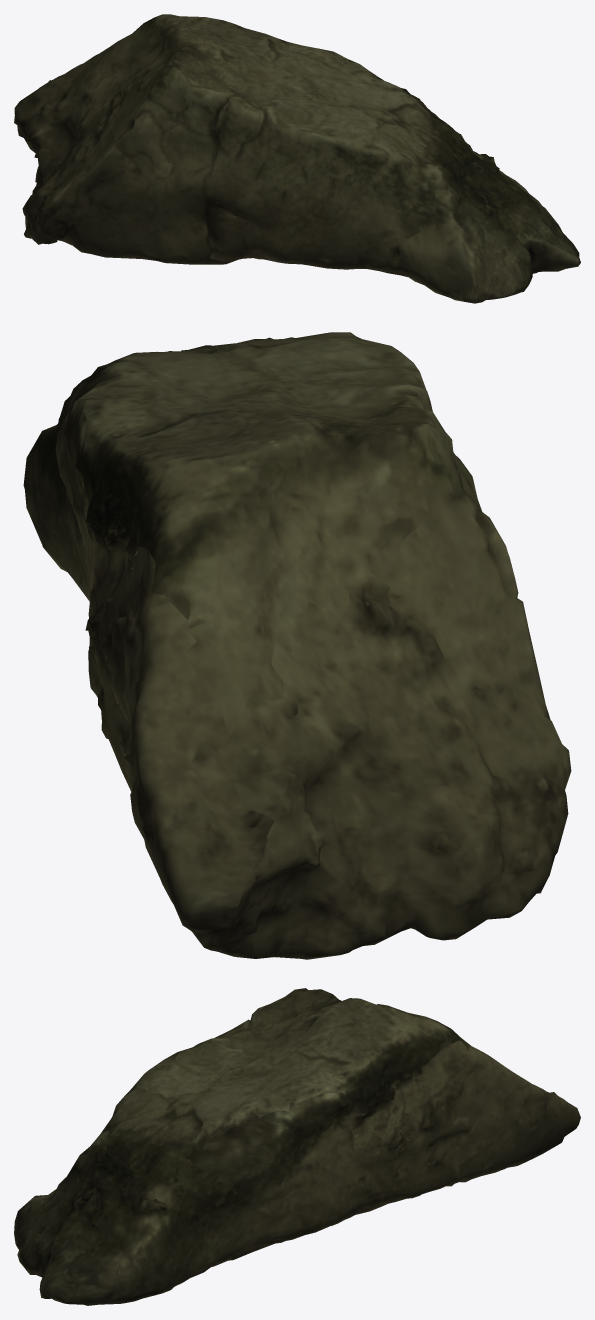
The model's file is RF3_Moss_Rock_2.fbx.
The picture shows the model from 3 angles, top to bottom: view 1: azimuth 30°, elevation 25°; view 2: azimuth 150°, elevation 25°; view 3: azimuth 270°, elevation 25°; orthographic projection. The views are drawn at different scales.
Visible parts, largest first — view 1: RF3_Moss_Rock_2; view 2: RF3_Moss_Rock_2; view 3: RF3_Moss_Rock_2.
Part boxes in pixels (left/top/right/bottom): RF3_Moss_Rock_2: left=14, top=14, right=580, bottom=303; RF3_Moss_Rock_2: left=23, top=332, right=571, bottom=959; RF3_Moss_Rock_2: left=14, top=988, right=580, bottom=1305.
Bounding box in the file's own units: 265 × 126 × 326.
